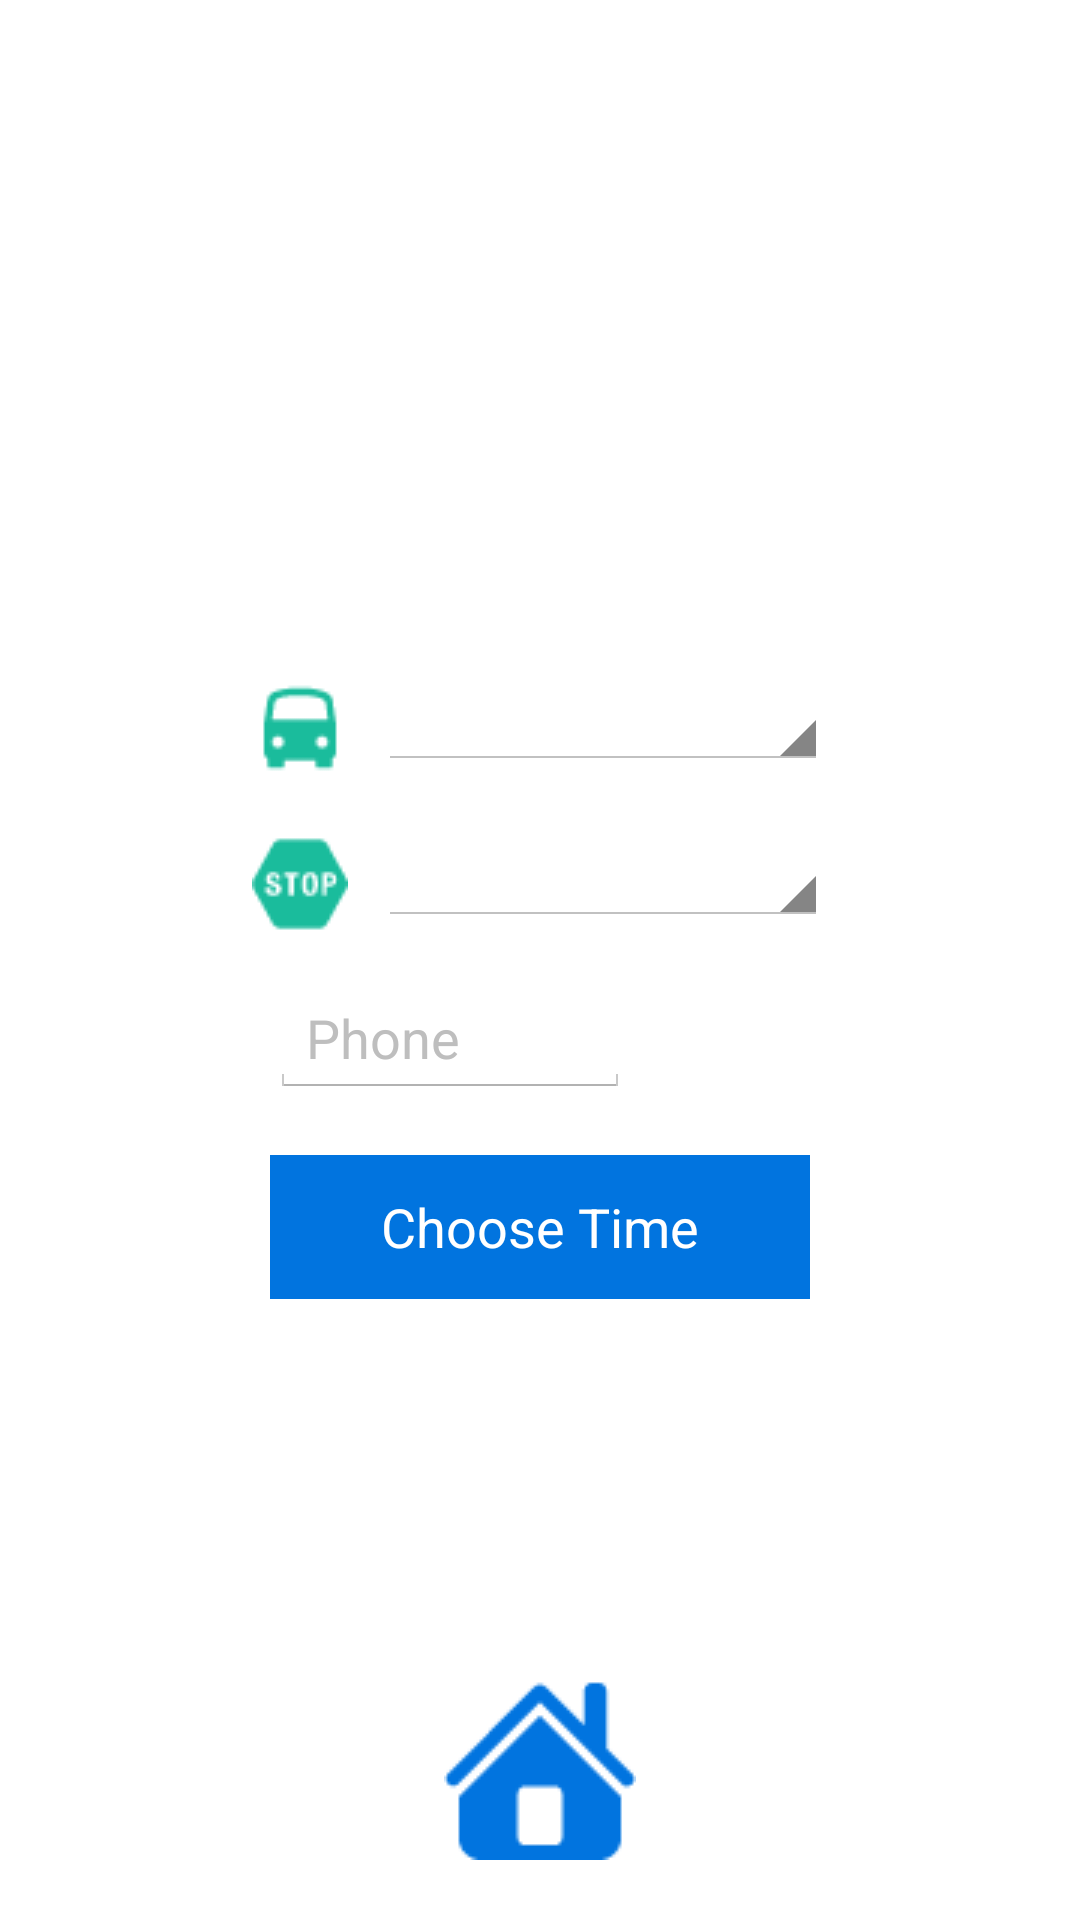

Point at icon controls on the screen. Image size 1080w x 1920h, points as [x,y].
bus: [300,728]
home: [540,1771]
